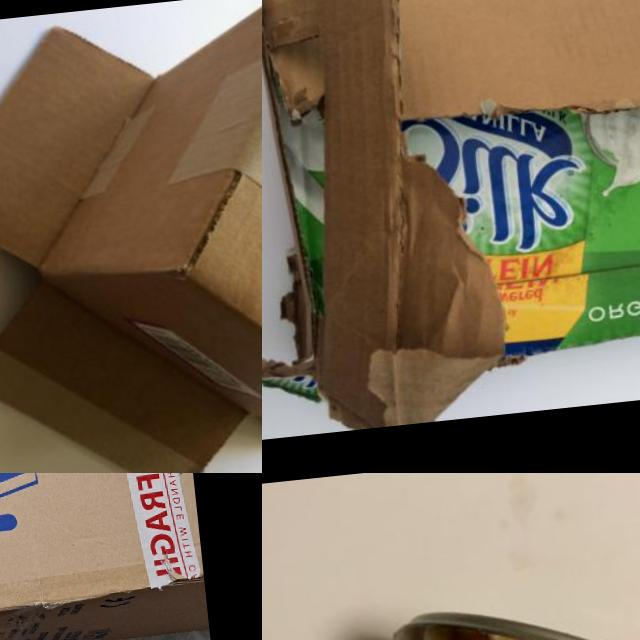lata: (262, 584, 640, 640)
papelão: (262, 0, 640, 436), (0, 0, 262, 473), (0, 473, 211, 640)
